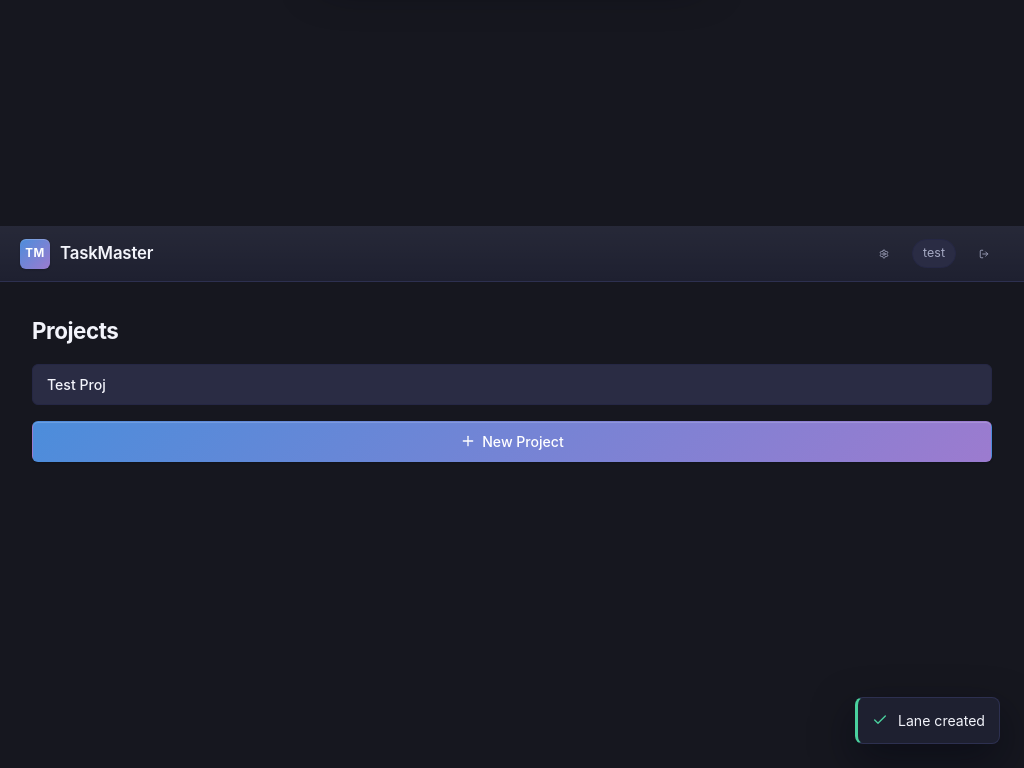
App › task Edit and Delete buttons are keyboard-focusable (not removed from tab order)
(page scrolled)
Step 1. Click the button "Test Proj" → (76, 384), box [32,364,992,405]
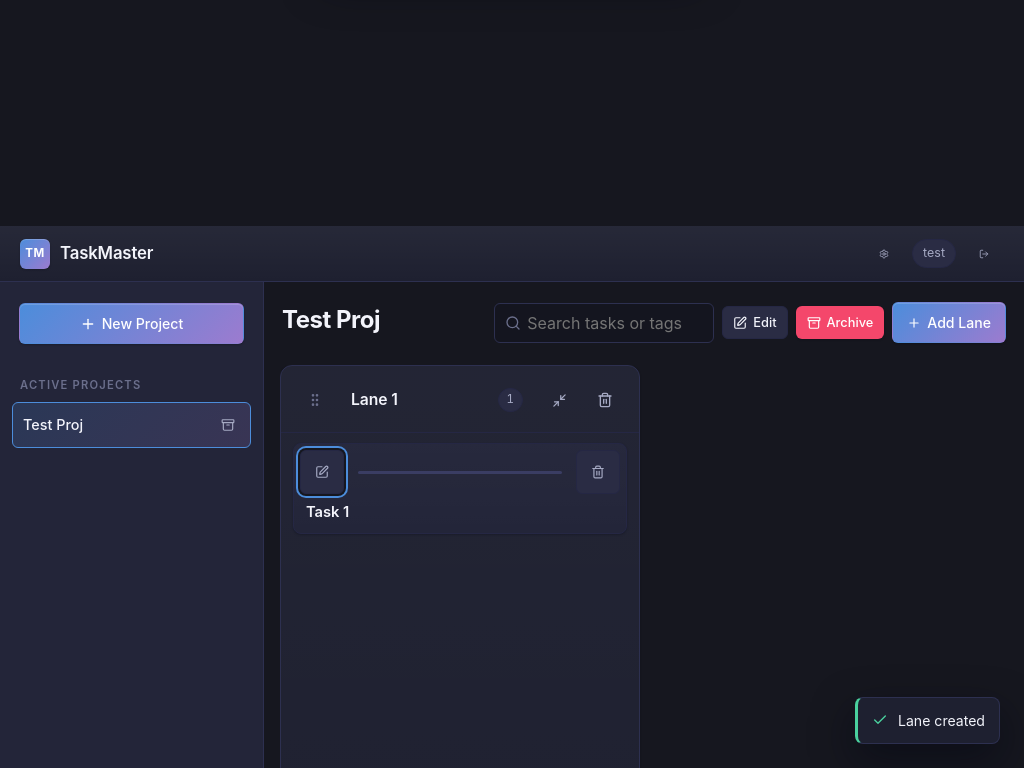
Expected: the text "Task 1" is shown, [306,503,349,521]
Step 2. Press Enter
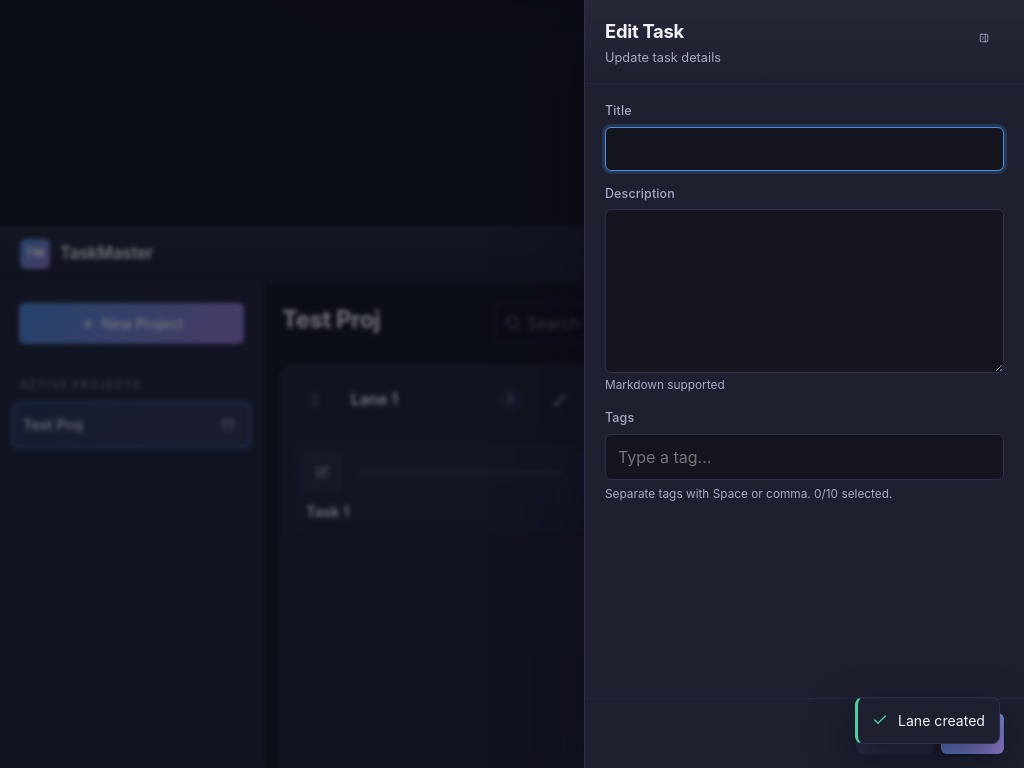
Expected: the dialog "Edit Task" is shown, [584,0,1023,767]
